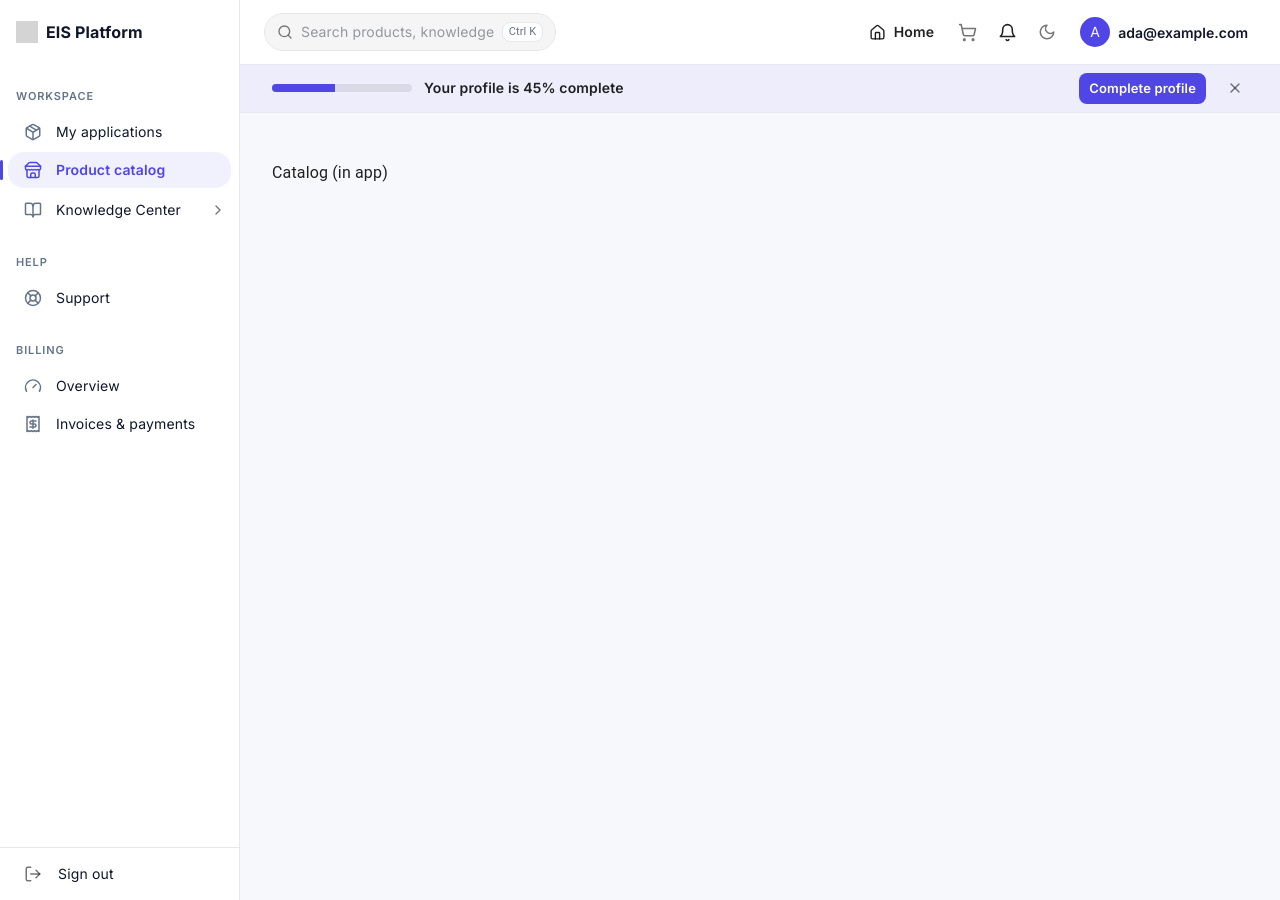
Test: My profile in the shell (C107) › dismisses the bar for the session
The image size is (1280, 900).
Click the button named "Dismiss for this session" at coordinates (1235, 88), box [1222, 75, 1248, 101]
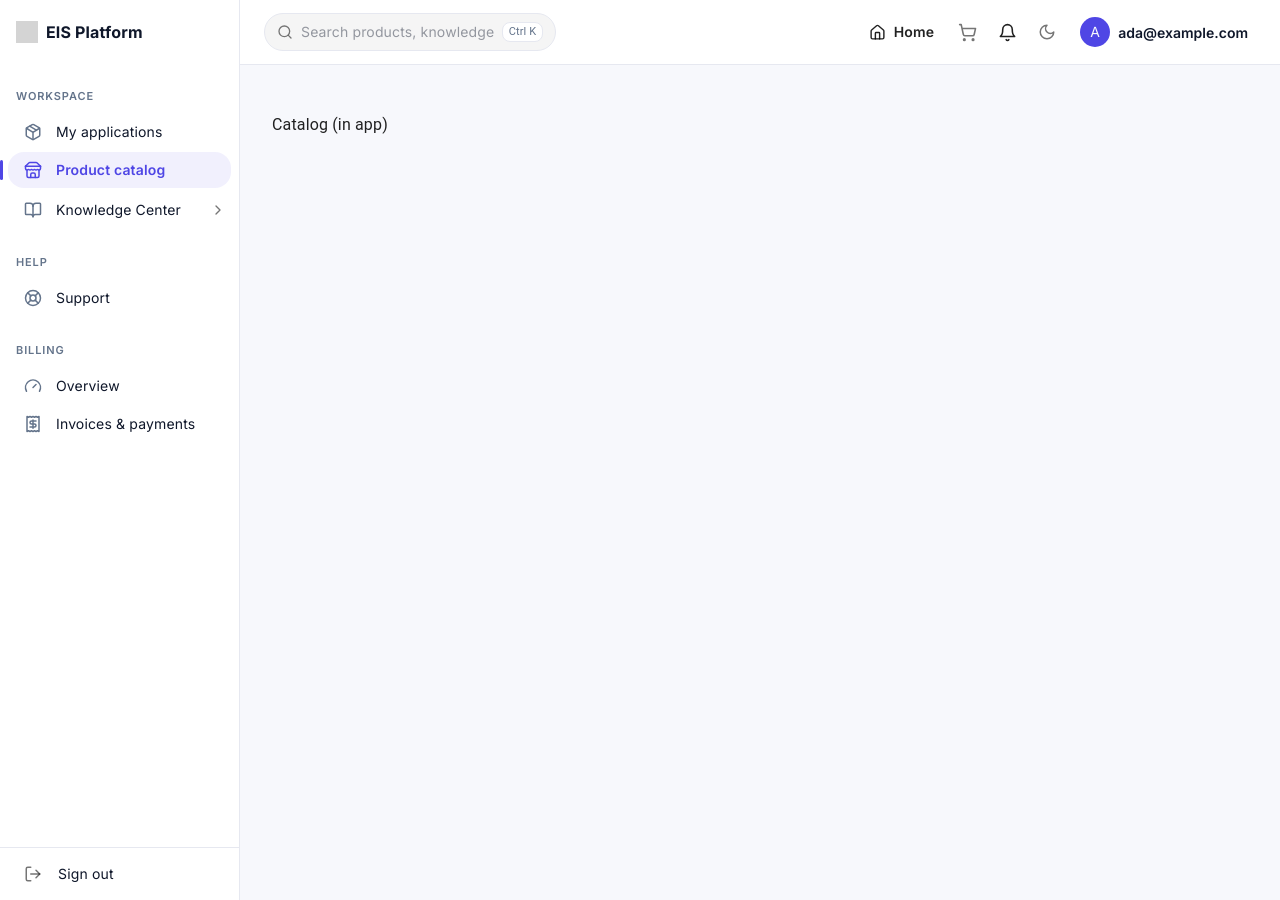
Expected: the text "Your profile is 45% complete" is gone
